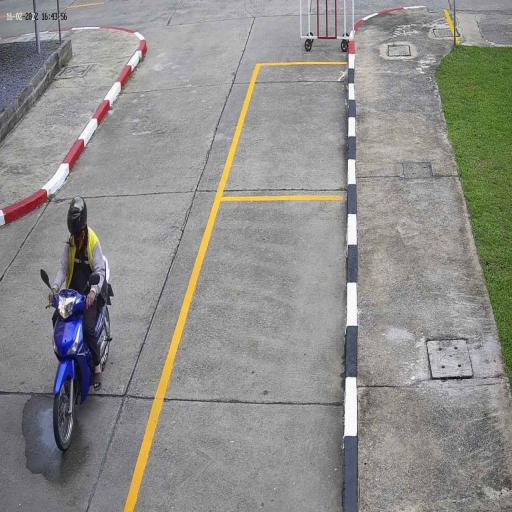motorcycle: (43, 285, 114, 456)
